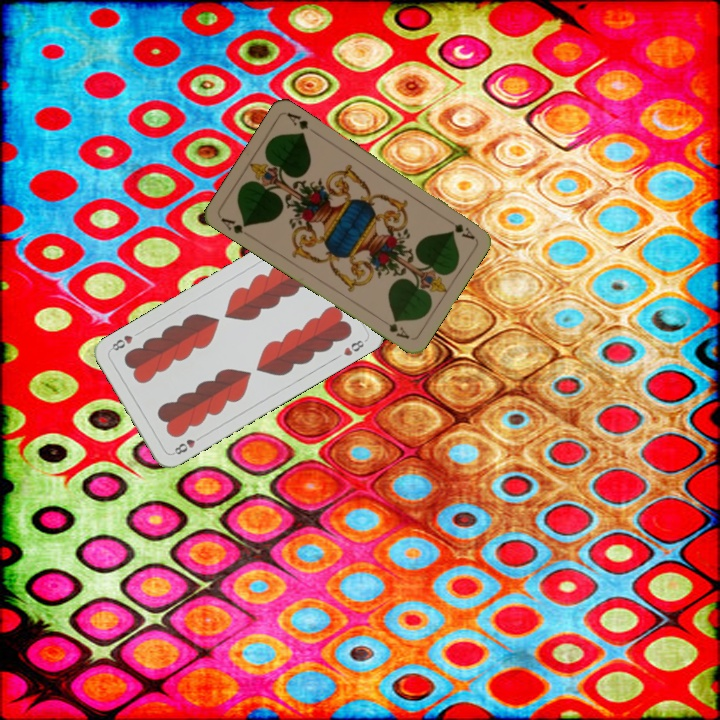GA: (217, 213, 250, 237), (450, 220, 477, 242)
H8: (168, 431, 205, 457)
